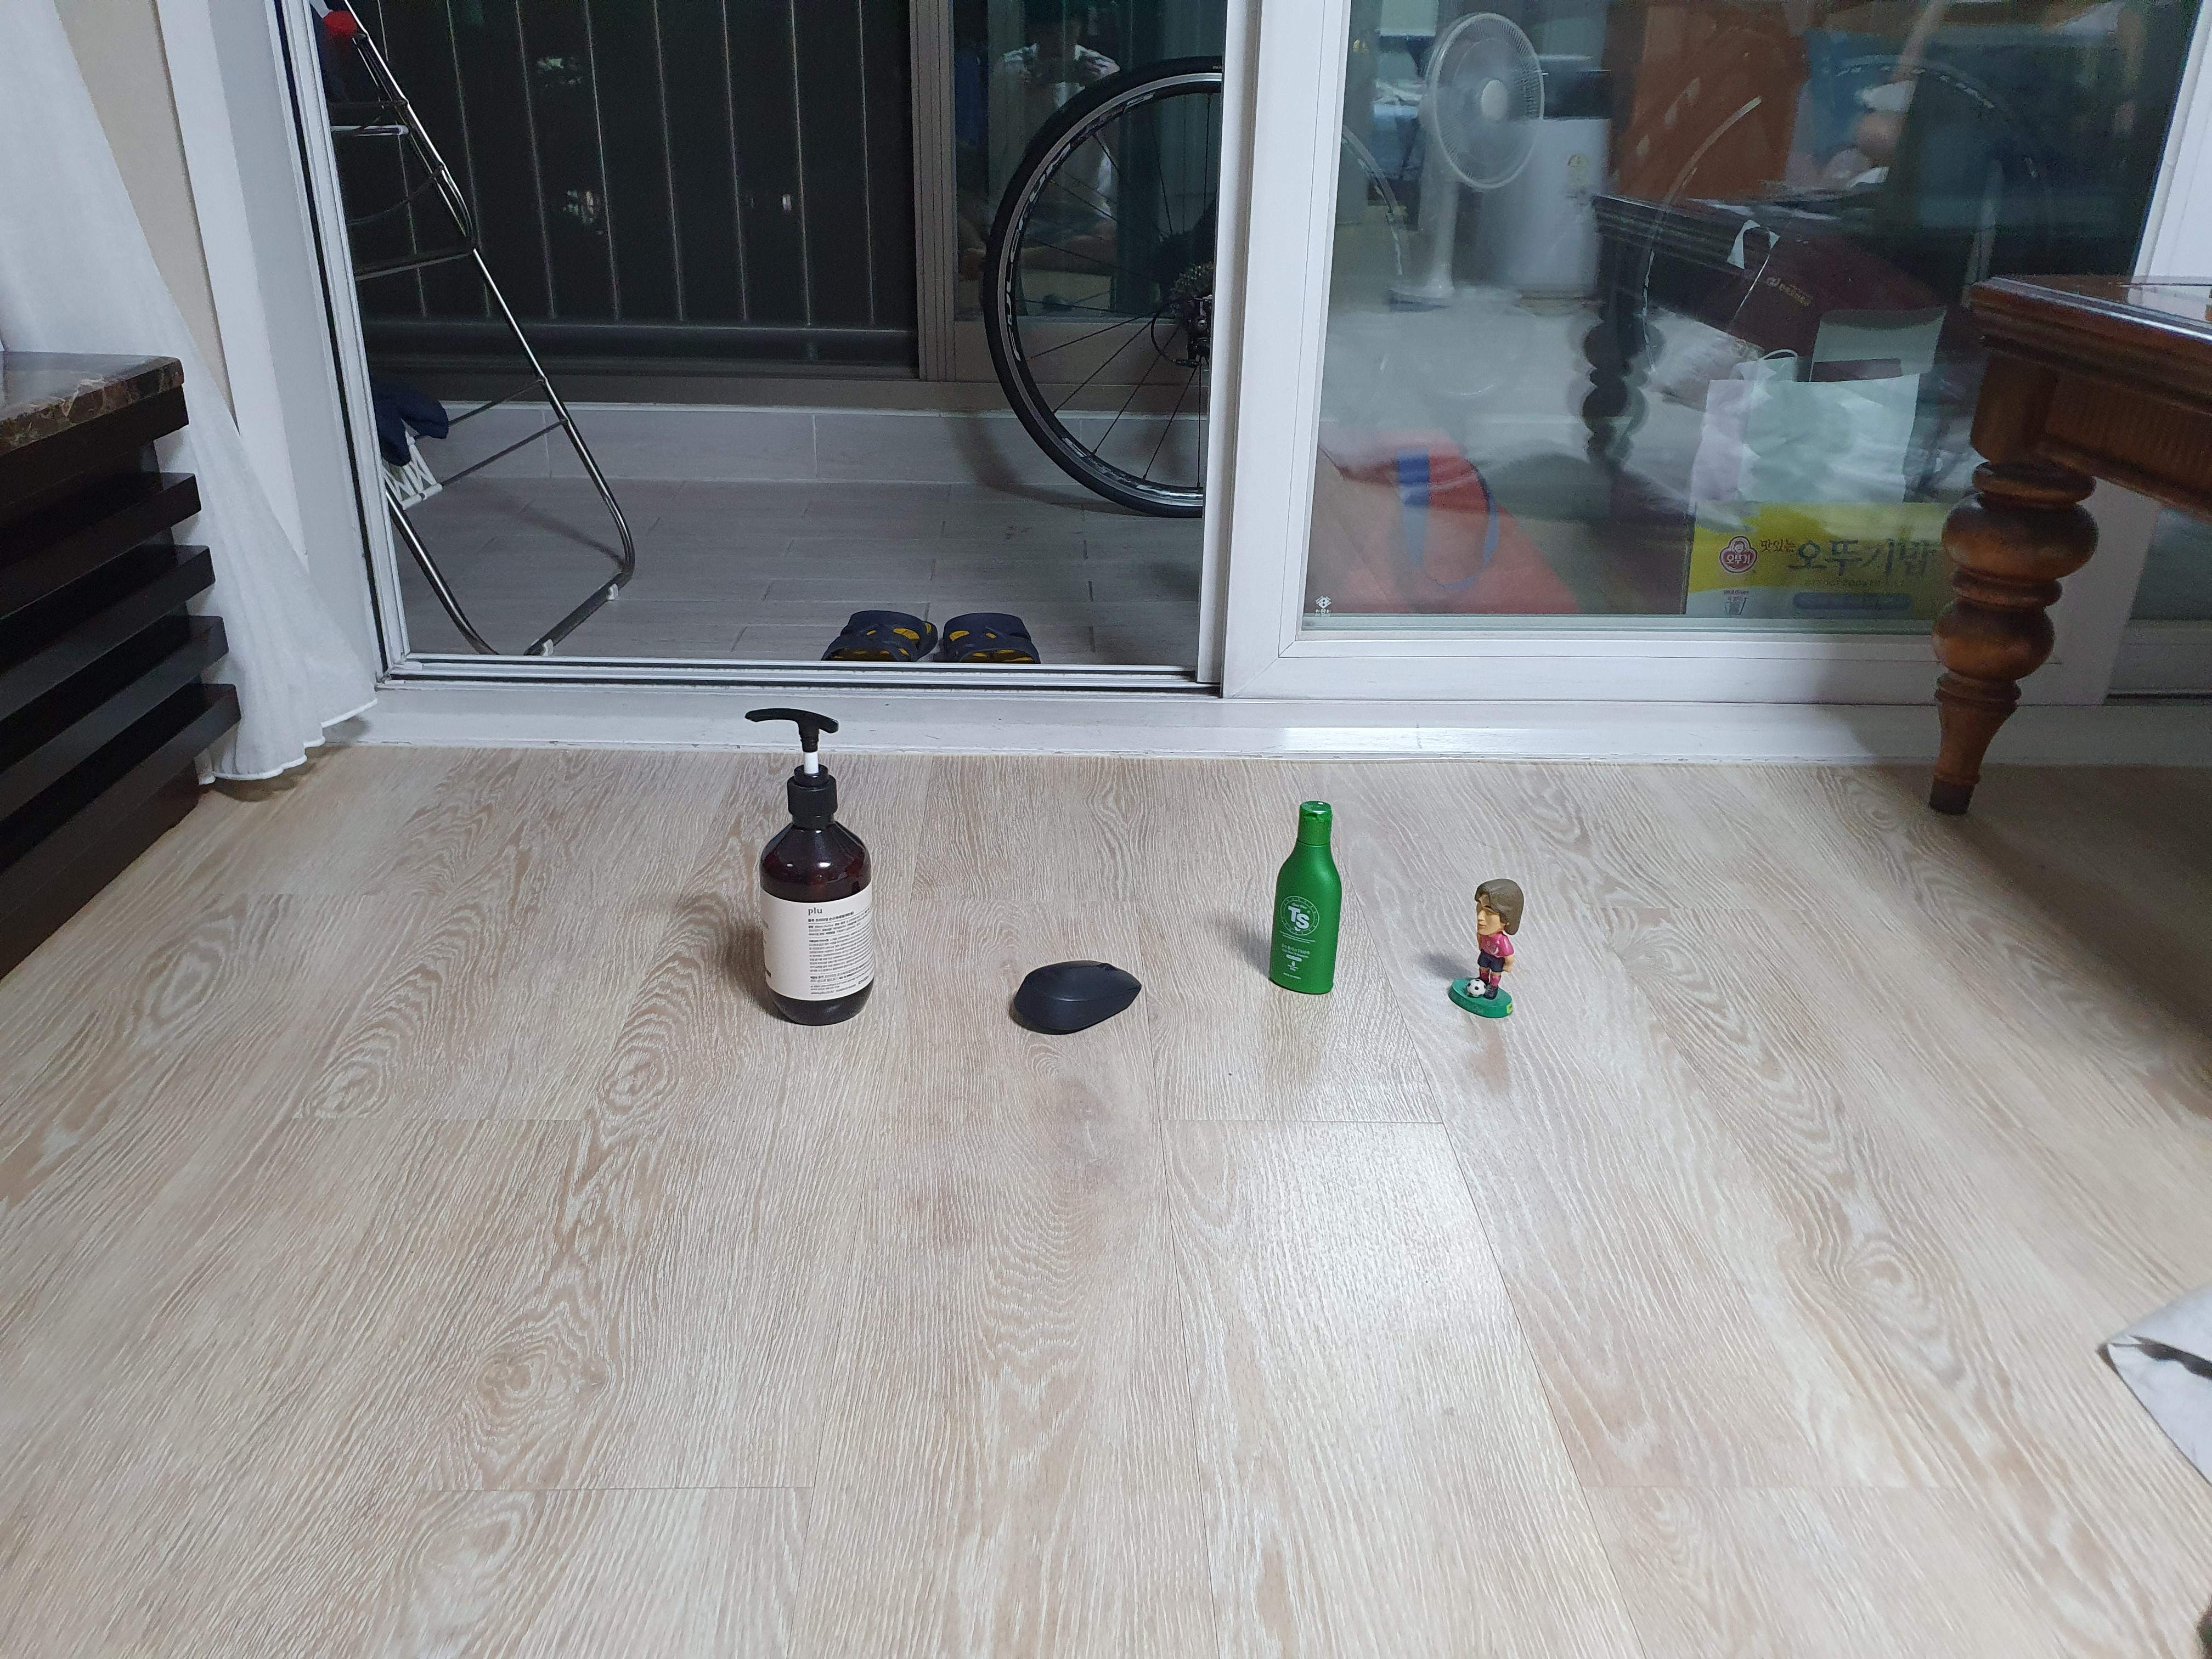bottle: (707, 674, 895, 1047)
mouse: (977, 929, 1174, 1061)
shampoo: (1259, 784, 1381, 1018)
yoo: (1447, 873, 1545, 1035)
